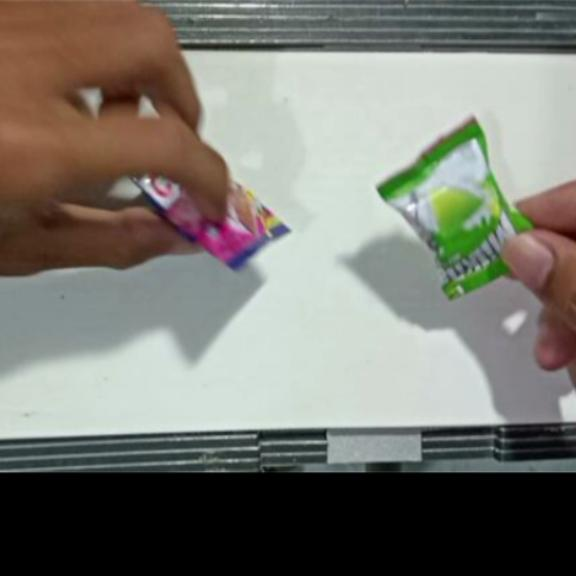Plastik: (374, 115, 544, 297), (131, 160, 295, 270)
